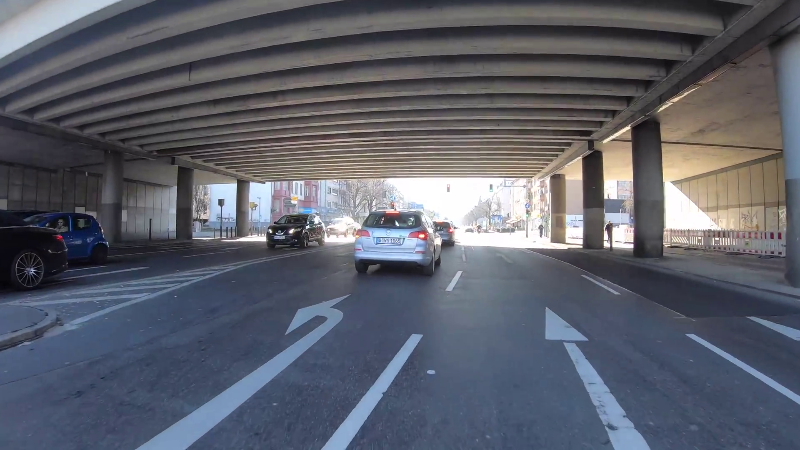Plate: (374, 235, 403, 247)
